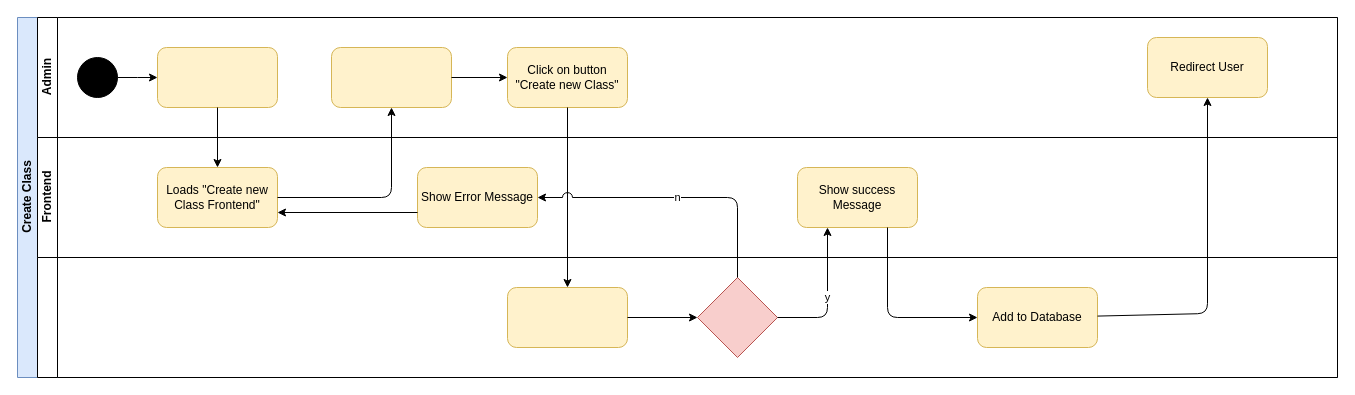
Some shapes in this 1355 by 395 pixel diagram are drawn without their labels. Here are the shapes that lost their labels. From the top down, the box of each, then its label:
(156, 46, 278, 108): Click on Create new Class
(330, 46, 452, 108): Fill in required Data
(506, 286, 628, 348): Validate Data
(36, 256, 1338, 378): Server
(696, 276, 778, 358): Data is valid
